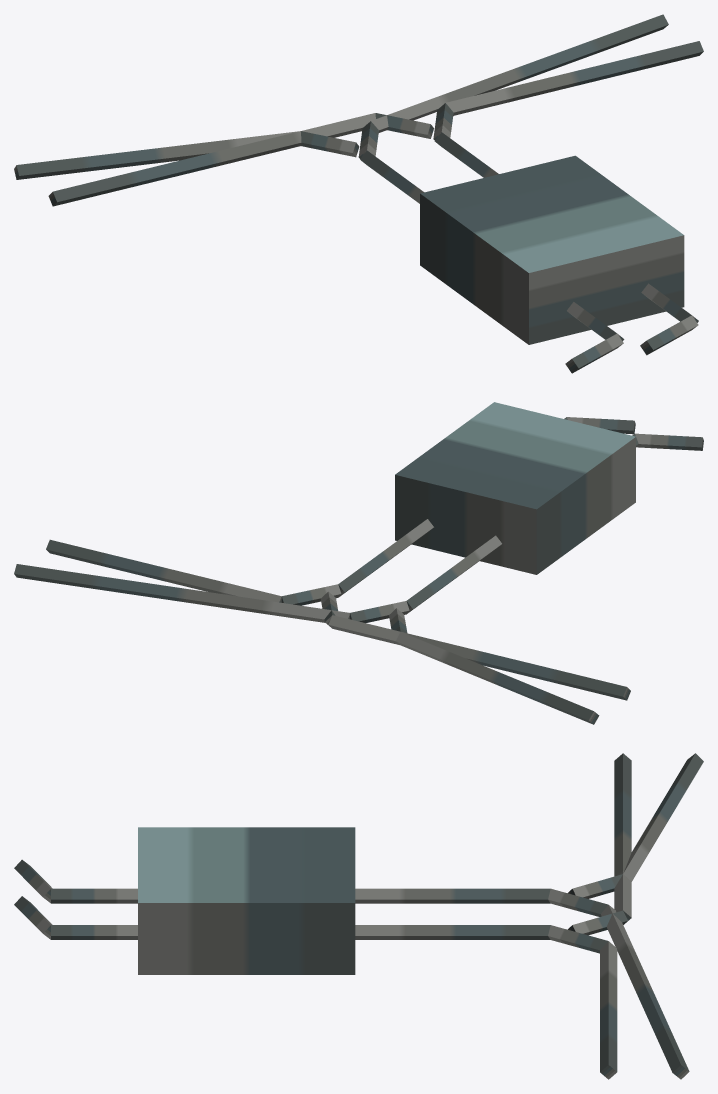
File: pz_native_electrical_182.obj
3 renders of one model, top to bottom at view 1: azimuth 30°, elevation 25°; view 2: azimuth 150°, elevation 25°; view 3: azimuth 270°, elevation 25°, orthographic. The views are drawn at different scales.
Visible parts, largest first — view 1: panel_case, conduit; view 2: panel_case, conduit; view 3: panel_case, conduit, conduit_end.
Boxes of the visible parts, box(x1,y1,x2,y2) form: panel_case: box(420, 155, 684, 344); conduit: box(16, 14, 703, 372); panel_case: box(395, 402, 635, 574); conduit: box(14, 417, 702, 724); panel_case: box(138, 827, 355, 974); conduit: box(14, 753, 703, 1072); conduit_end: box(43, 889, 689, 1079).
Size of the model in its own units: 0.9212 by 0.0985 by 0.858.
1 material, 1 textured.
